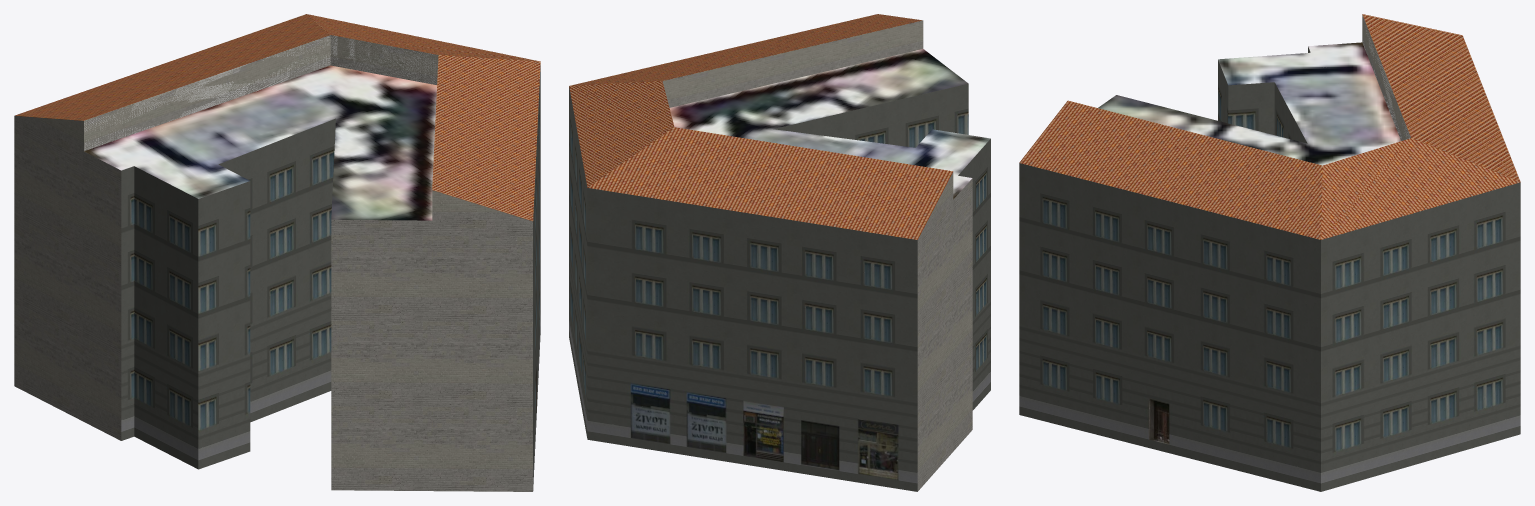
The model's file is Building012.dae.
3 renders of one model, left to right at view 1: azimuth 30°, elevation 25°; view 2: azimuth 150°, elevation 25°; view 3: azimuth 270°, elevation 25°, orthographic. The views are drawn at different scales.
Visible parts, largest first — view 1: SketchUp (×5); view 2: SketchUp (×6); view 3: SketchUp (×6).
Boxes of the visible parts, left/top/right/bottom form: SketchUp (×5): left=14, top=14, right=540, bottom=491; SketchUp (×6): left=569, top=14, right=990, bottom=491; SketchUp (×6): left=1019, top=14, right=1520, bottom=491.
Bounding box in the file's own units: 1217 × 1260 × 777.
7 materials, 6 textured.
